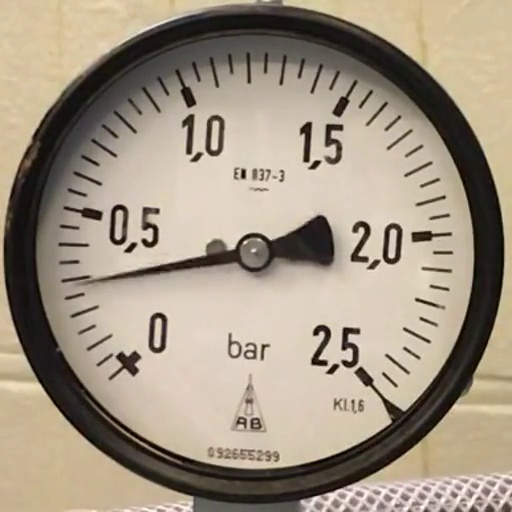base: (237, 233, 273, 272)
circle_plate: (44, 35, 474, 463)
maximum: (354, 365, 374, 387)
minimum: (115, 348, 142, 376)
number: (350, 220, 404, 269), (310, 324, 361, 375), (108, 203, 161, 251), (299, 120, 345, 171), (180, 112, 225, 161), (146, 311, 168, 356)
tip: (72, 278, 88, 288)
